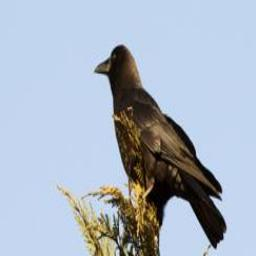Crow: (92, 37, 228, 256)
